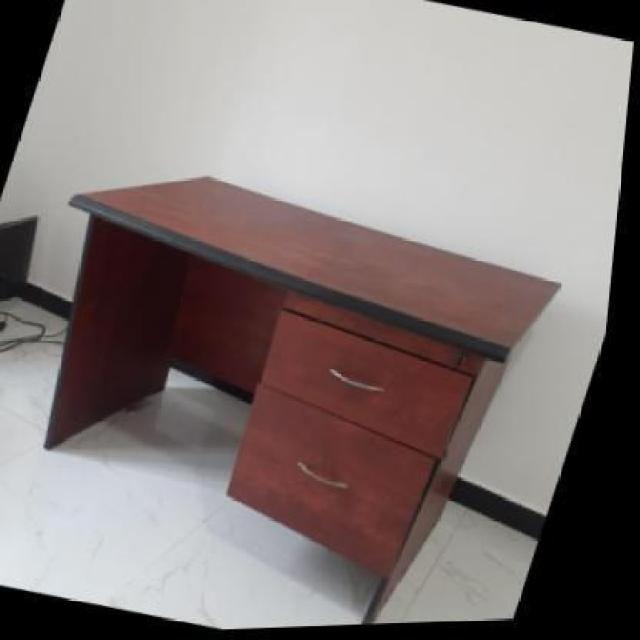tables: (41, 173, 562, 622)
